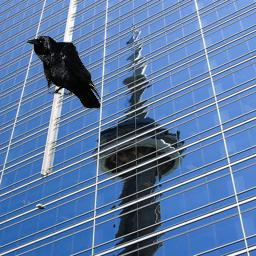Crow: (26, 35, 102, 110)
